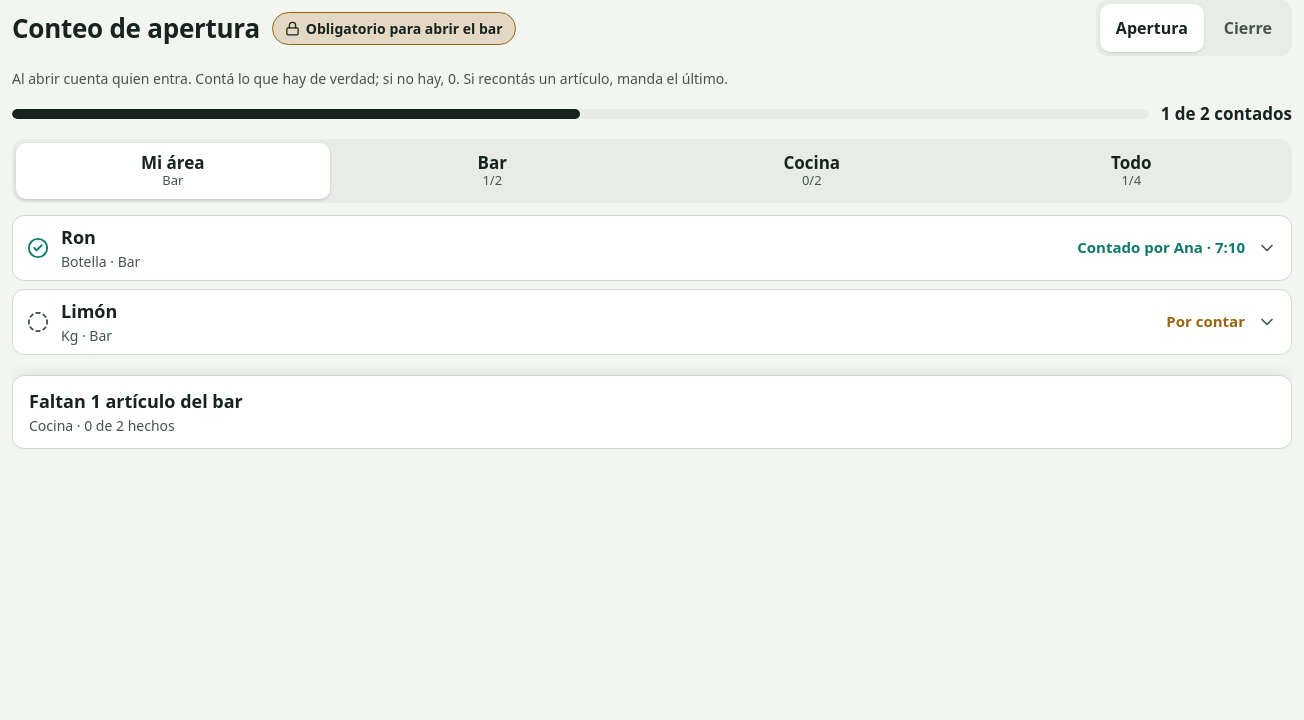
Test: AreaCountPanel › filtra Mi área | Bar | Cocina | Todo, con el avance que manda el servidor
Expected: the button "Mi área Bar" is shown, [16,142,330,198]
Expected: the button "Bar 1/2" is shown, [336,142,649,198]
Click the button "Cocina 0/2": x=812, y=170 [655,142,968,198]
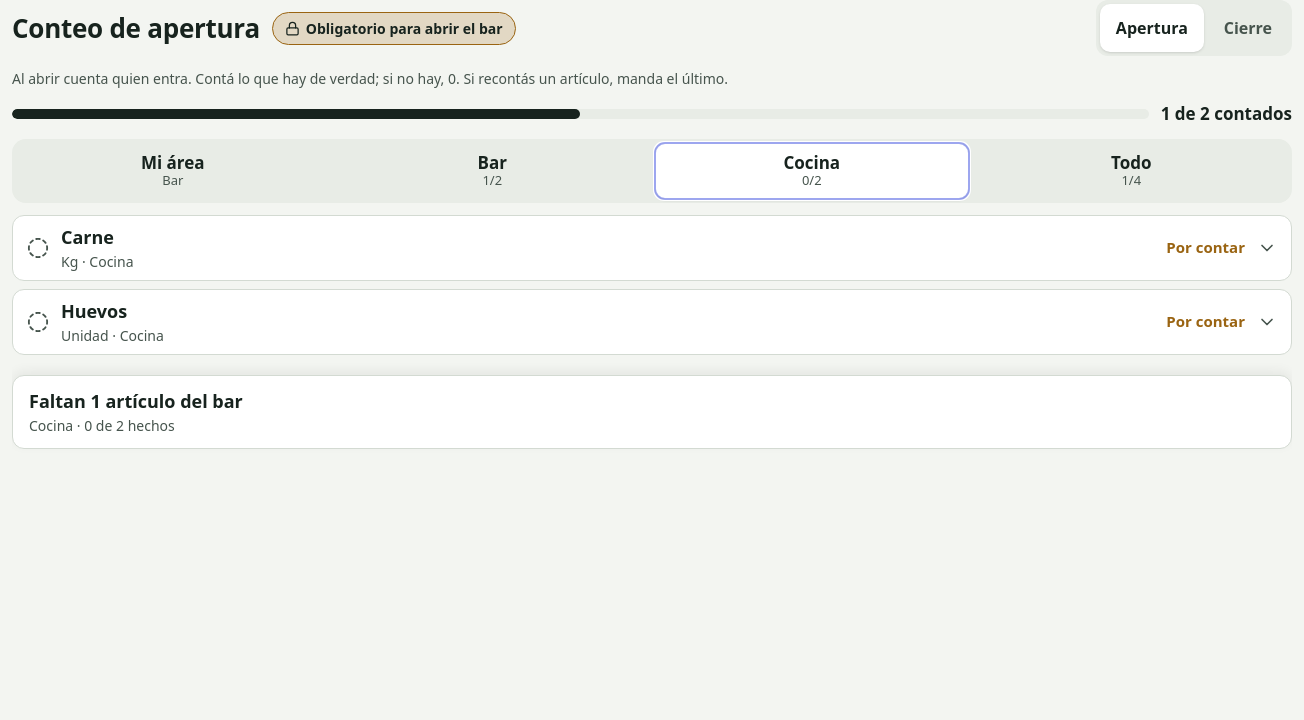
Expected: the text "Carne" is shown, [61,224,114,248]
Expected: the button "Ron" is gone
Click the button "Todo 1/4": x=1131, y=170 [974,142,1288,198]
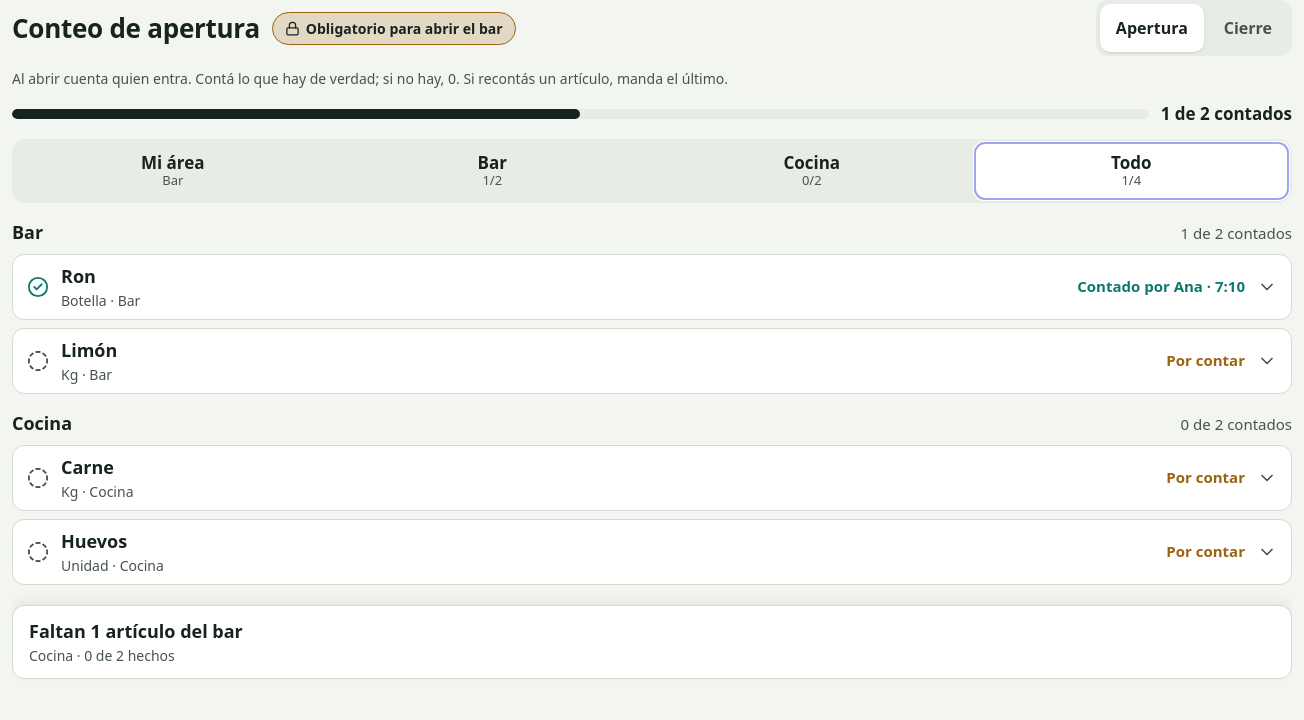
Expected: the text "Carne" is shown, [61,454,114,478]
Expected: the text "Ron" is shown, [61,264,96,288]
